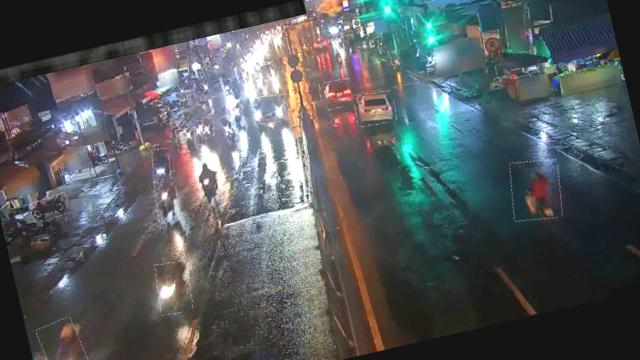Bike: (503, 154, 568, 225), (39, 314, 104, 360), (152, 259, 197, 316), (151, 176, 182, 224), (194, 158, 224, 206), (29, 194, 72, 224), (149, 146, 174, 184), (174, 127, 198, 154), (220, 114, 240, 146), (227, 98, 247, 130), (192, 120, 210, 146), (200, 117, 217, 139), (390, 52, 402, 72)
Car: (352, 88, 398, 128), (318, 76, 359, 111), (250, 92, 292, 126)
